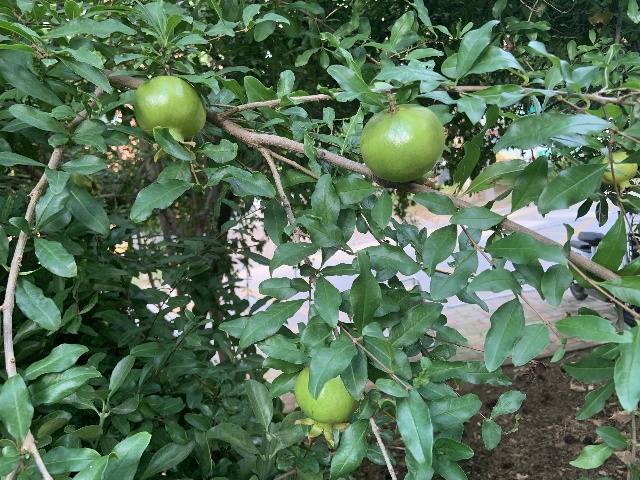mid-growth: (360, 104, 445, 184), (133, 74, 205, 162), (293, 366, 359, 447), (600, 151, 640, 197), (69, 172, 100, 196), (587, 8, 613, 33)
